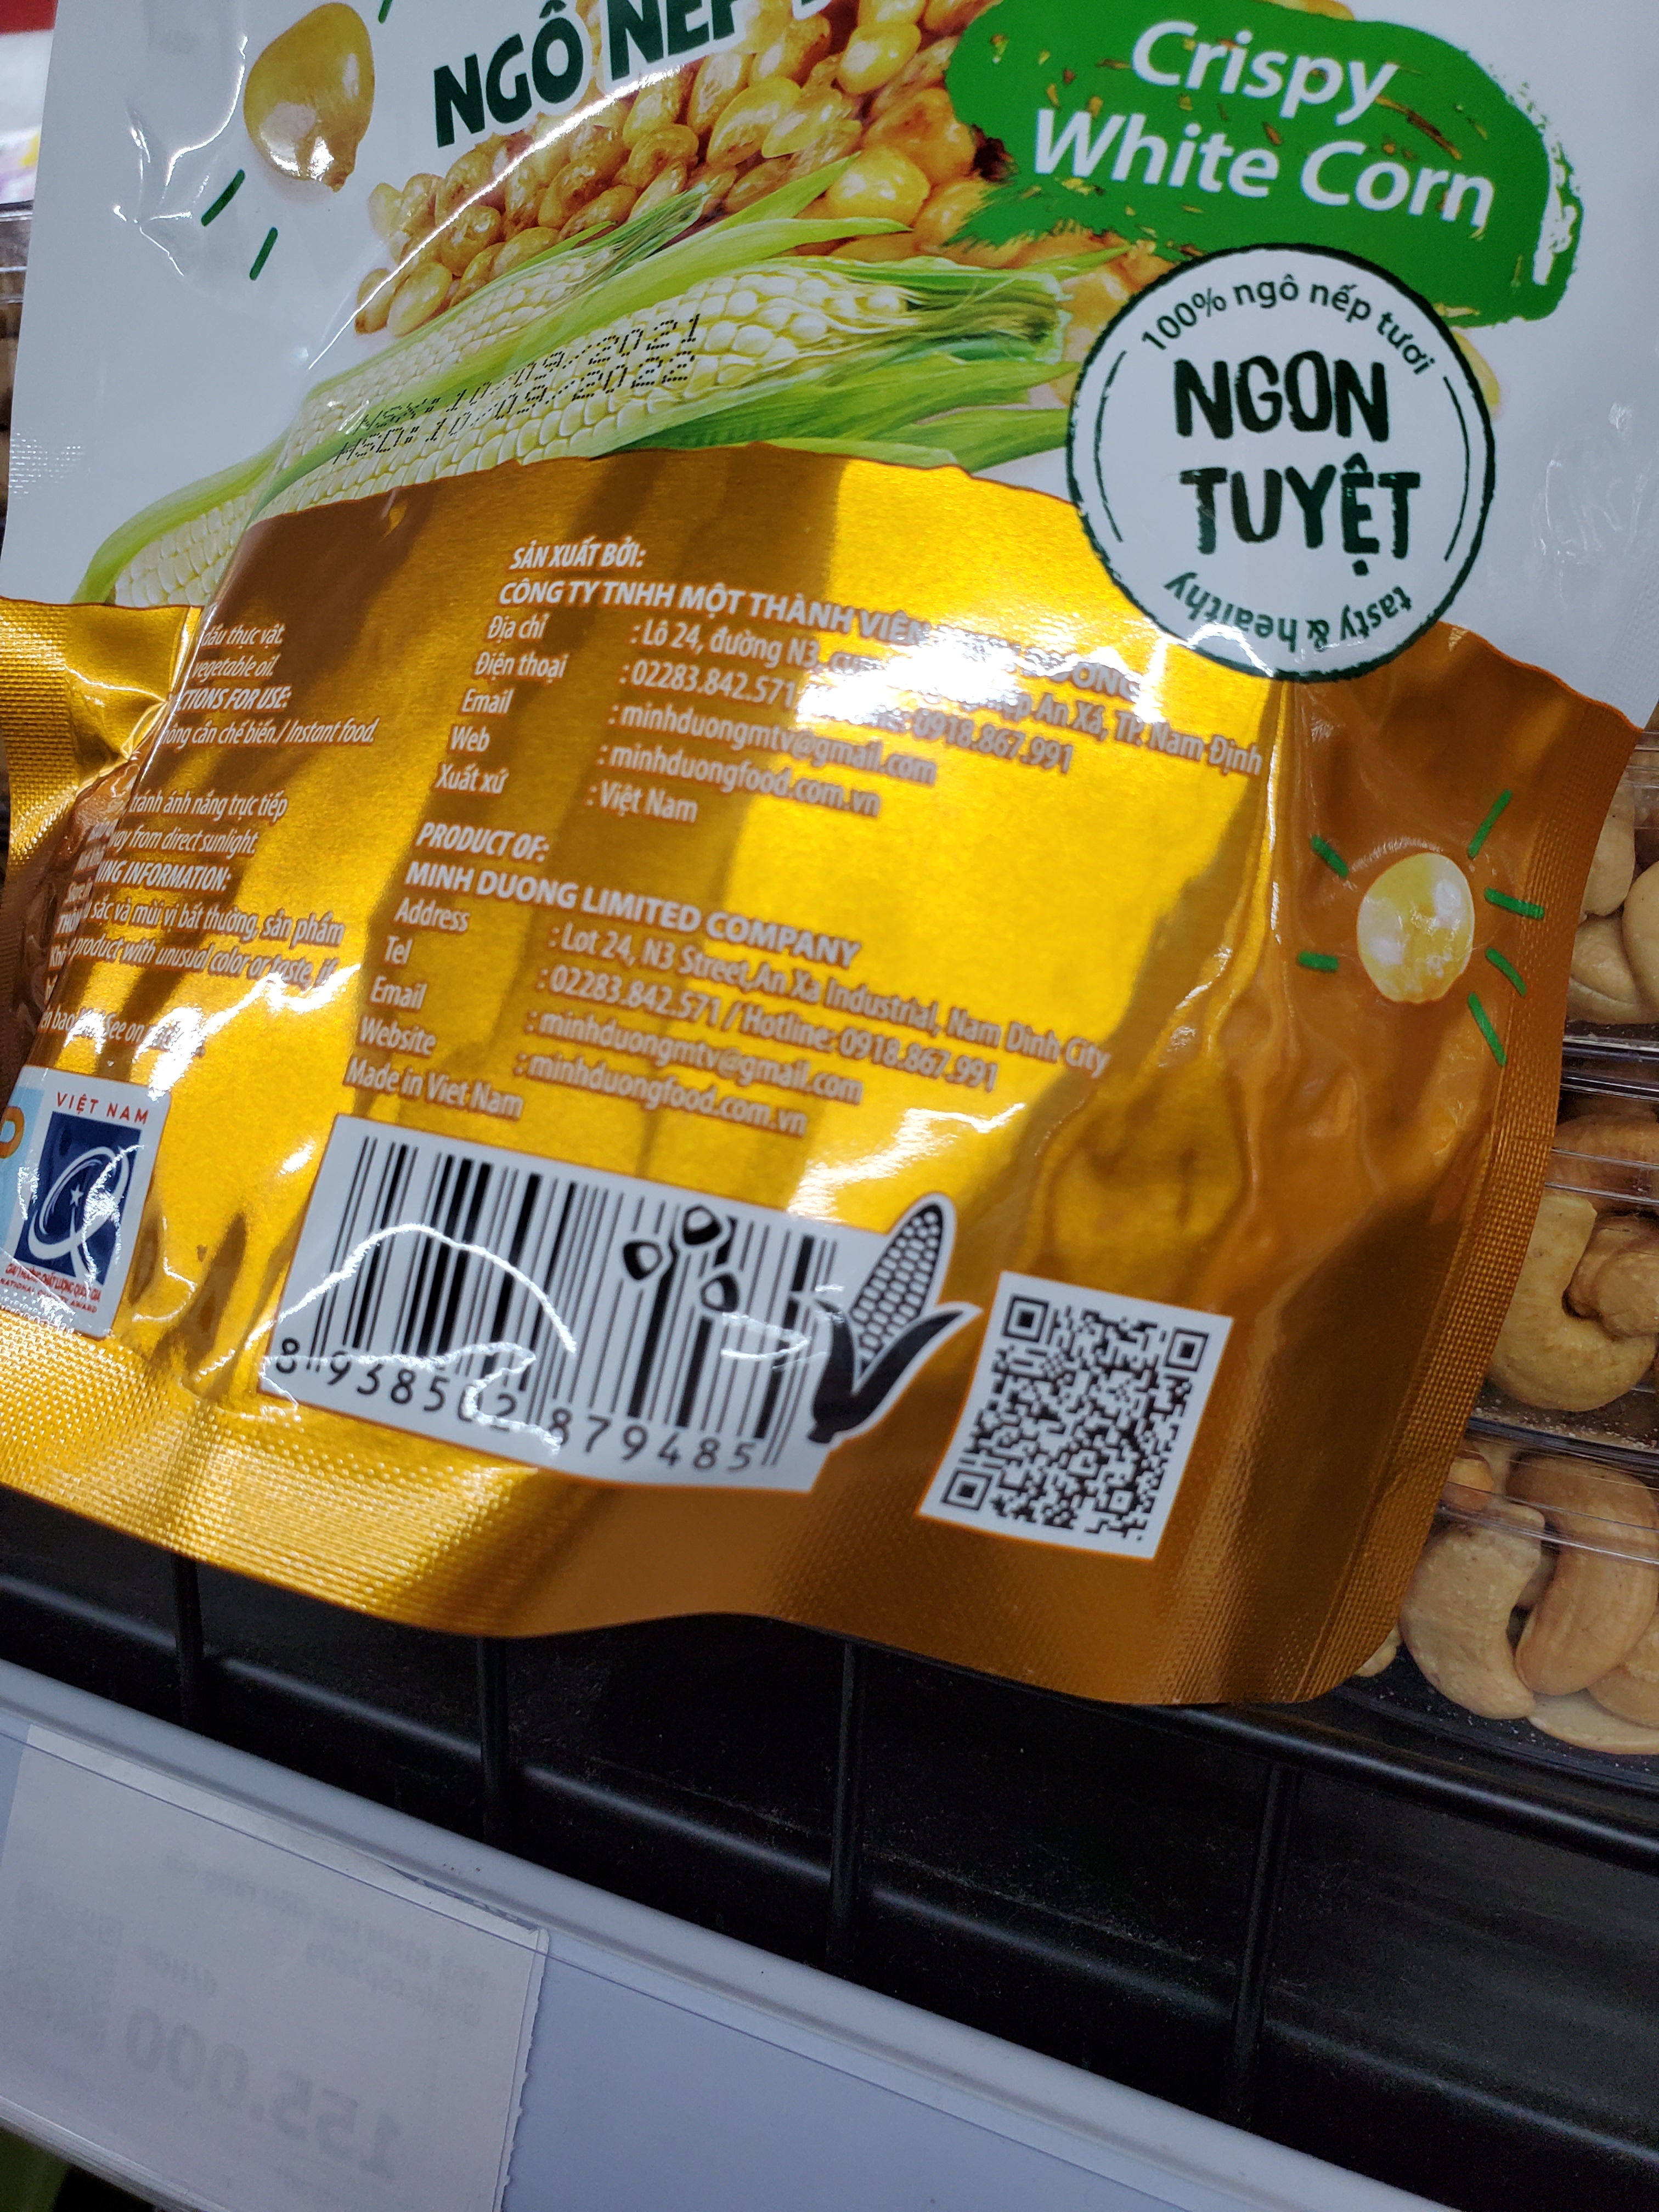barcode: (247, 1108, 863, 1522)
qr code: (922, 1254, 1232, 1590)
